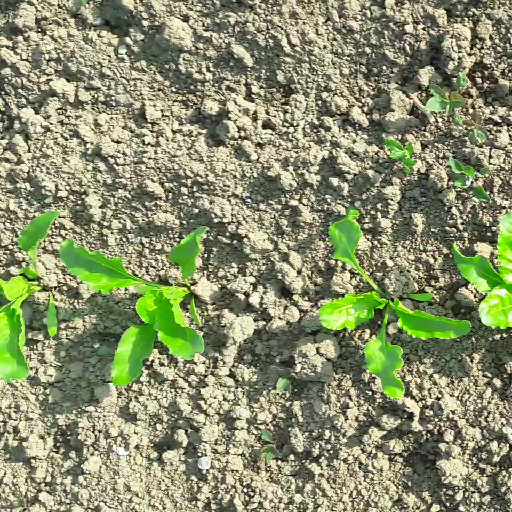sugarbeet: (315, 203, 472, 403), (56, 221, 209, 390), (1, 203, 61, 383), (447, 208, 512, 327)
weed: (444, 153, 492, 204), (426, 74, 469, 119), (383, 136, 417, 176), (458, 106, 488, 146), (254, 428, 282, 467), (272, 370, 296, 396)
